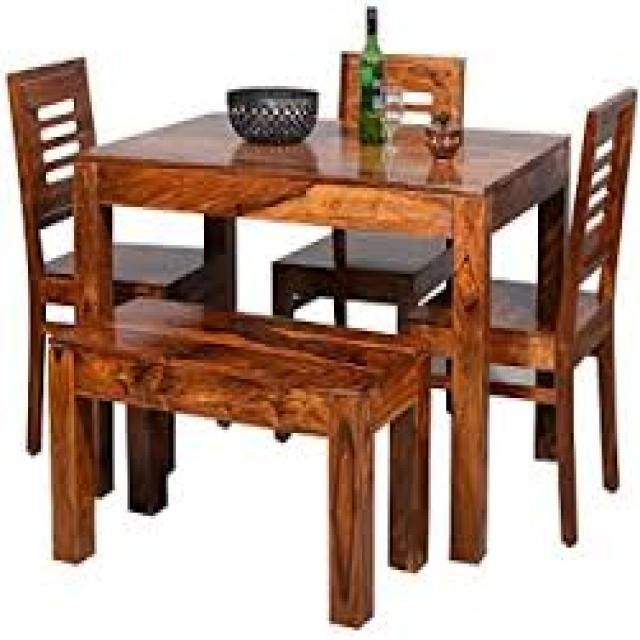obstacle: (35, 281, 448, 635), (0, 30, 123, 493), (541, 66, 628, 590)
